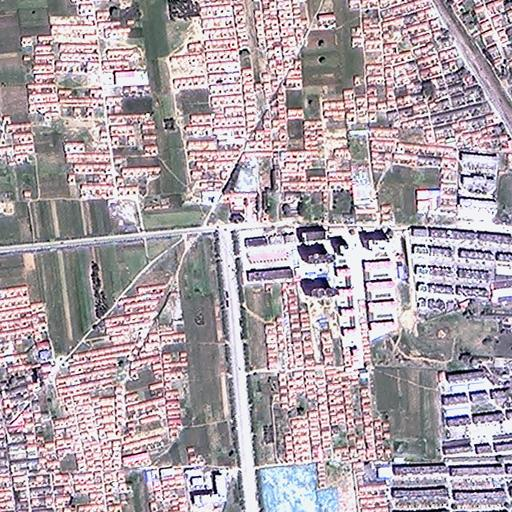school: (241, 226, 296, 281)
